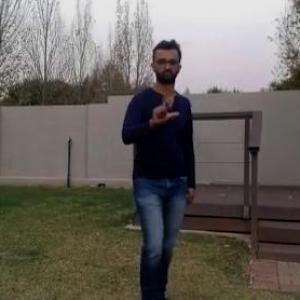land_hand: (147, 90, 179, 128)
